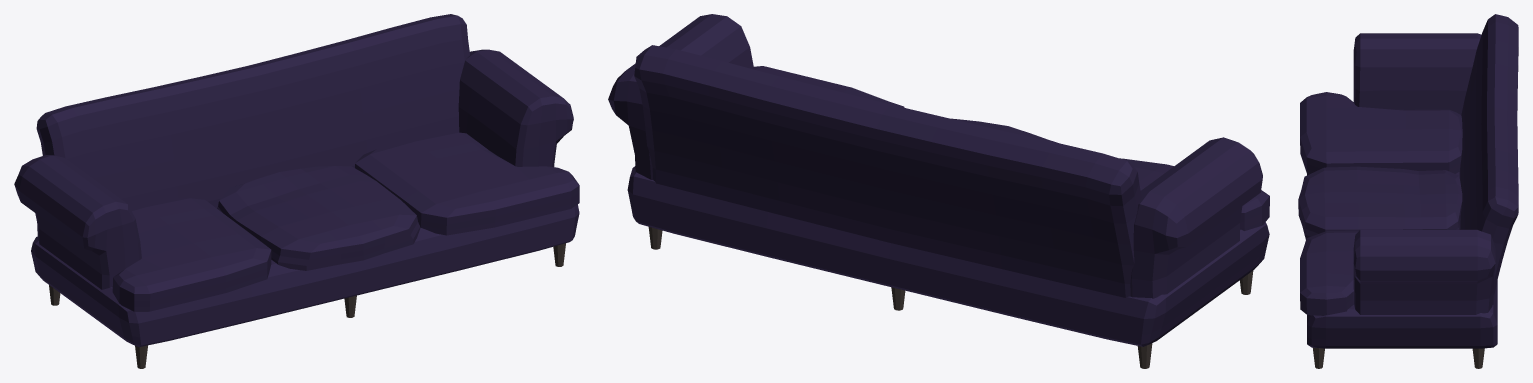
The model's file is sofa.glb.
3 renders of one model, left to right at view 1: azimuth 30°, elevation 25°; view 2: azimuth 150°, elevation 25°; view 3: azimuth 270°, elevation 25°, orthographic. The views are drawn at different scales.
Visible parts, largest first — view 1: Sofa; view 2: Sofa; view 3: Sofa.
Boxes of the visible parts, <box> form: Sofa: <box>14,14,579,368</box>; Sofa: <box>608,14,1269,368</box>; Sofa: <box>1298,14,1518,368</box>.
Size of the model in its own units: 4.24 by 1.51 by 1.78.
